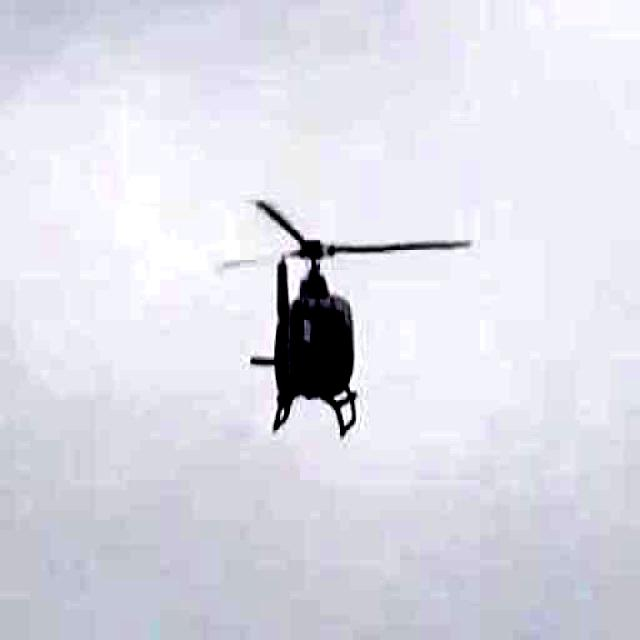drone: (182, 158, 440, 465)
